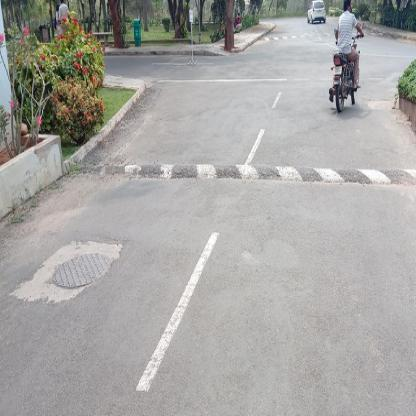speed-bumps: (67, 158, 415, 192)
